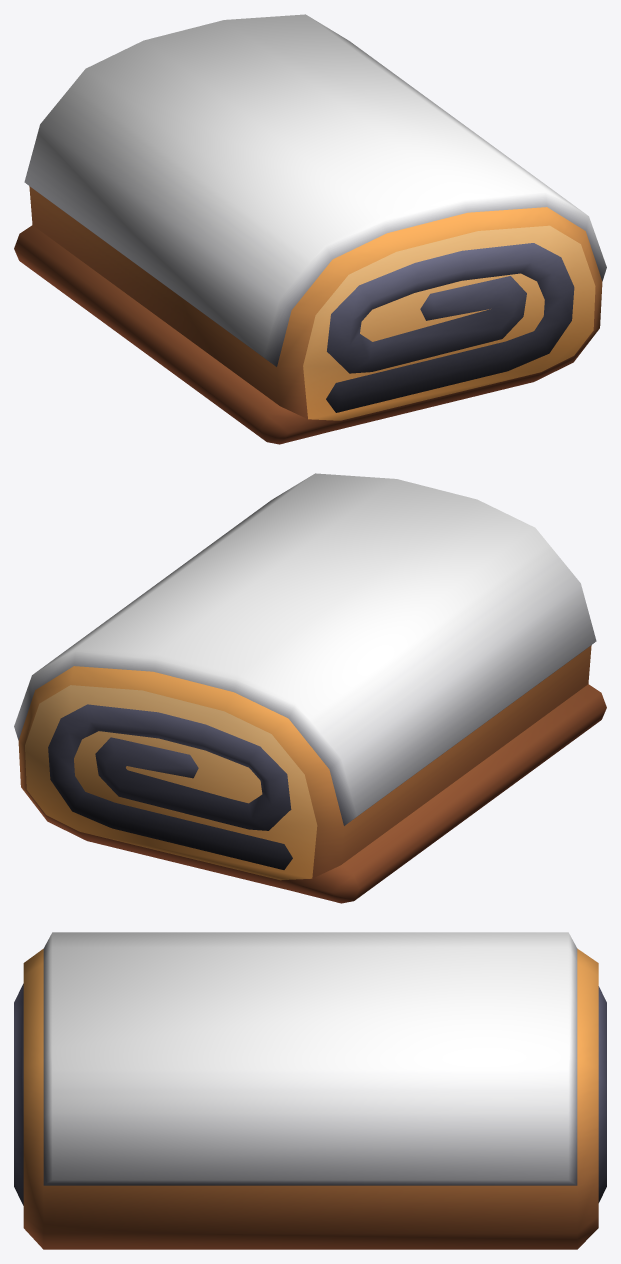
Rendered from m_PoppyStrudel02.fbx.
3 views of the same model, one above another, from view 1: azimuth 30°, elevation 25°; view 2: azimuth 150°, elevation 25°; view 3: azimuth 270°, elevation 25° (orthographic). The views are drawn at different scales.
Parts seen in each view (by area): view 1: m_PoppyStrudel02; view 2: m_PoppyStrudel02; view 3: m_PoppyStrudel02.
Boxes of the visible parts, <box> form: m_PoppyStrudel02: <box>14,14,606,444</box>; m_PoppyStrudel02: <box>14,473,606,903</box>; m_PoppyStrudel02: <box>14,932,606,1249</box>.
Size of the model in its own units: 14.67 by 8.04 by 20.
